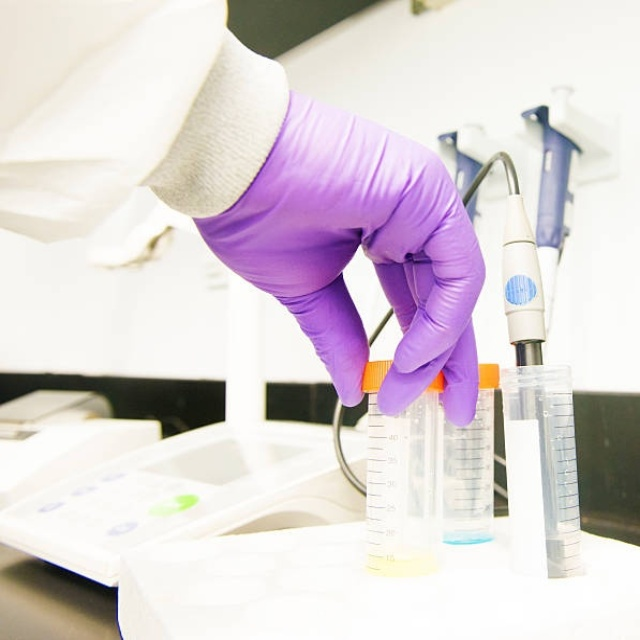Guantes: (190, 87, 487, 427)
